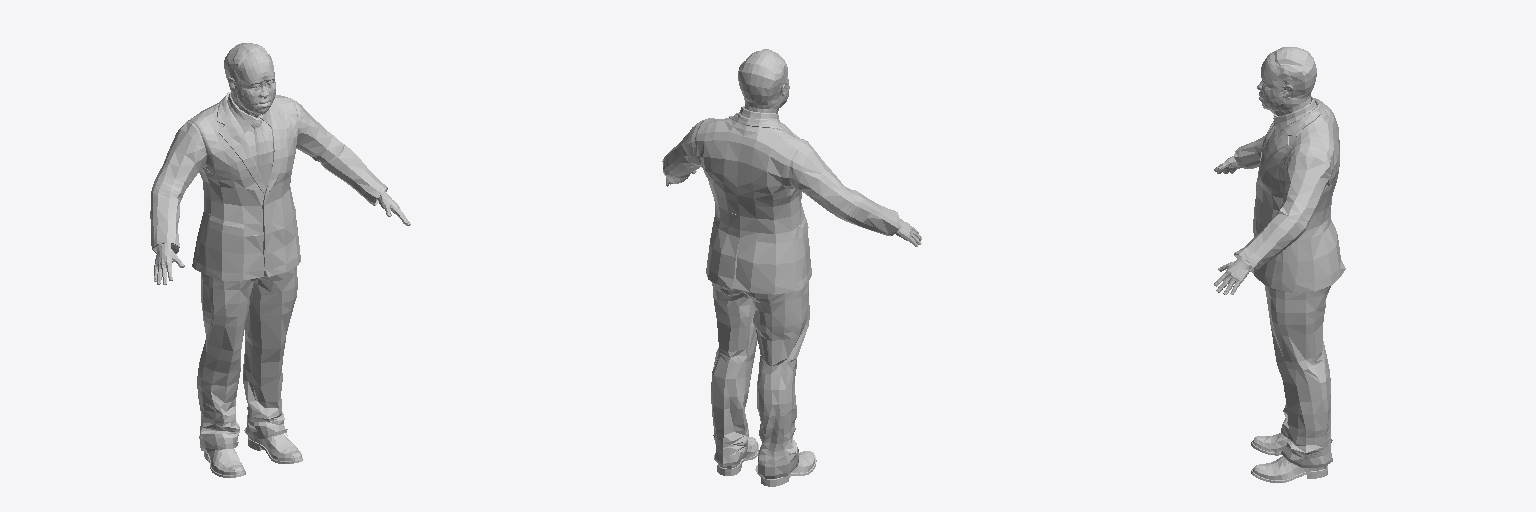
File: man_sim2.obj
3 renders of one model, left to right at view 1: azimuth 30°, elevation 25°; view 2: azimuth 150°, elevation 25°; view 3: azimuth 270°, elevation 25°, orthographic.
Visible parts, largest first — view 1: man.002, man.006, man.001, man.005, man.010, man.008, man.012, man.003; view 2: man.002, man.006, man.001, man.008; view 3: man.002, man.006, man.001, man.010, man.011, man.008, man.005.
Part boxes in pixels (x1,y1,x2,y2): man.002: (150,92,387,280); man.006: (197,266,297,451); man.001: (224,43,275,117); man.005: (227,93,273,175); man.010: (248,434,302,463); man.008: (204,448,245,477); man.012: (154,243,184,284); man.003: (254,128,269,188); man.002: (662,113,899,294); man.006: (711,282,809,478); man.001: (738,49,789,113); man.008: (761,451,816,486); man.002: (1234,98,1345,292); man.006: (1265,285,1332,467); man.001: (1257,47,1316,115); man.010: (1251,456,1327,482); man.011: (1214,257,1251,294); man.008: (1251,433,1288,455); man.005: (1264,96,1316,150).
Size of the model in its own units: 10.4 by 16.34 by 4.7.